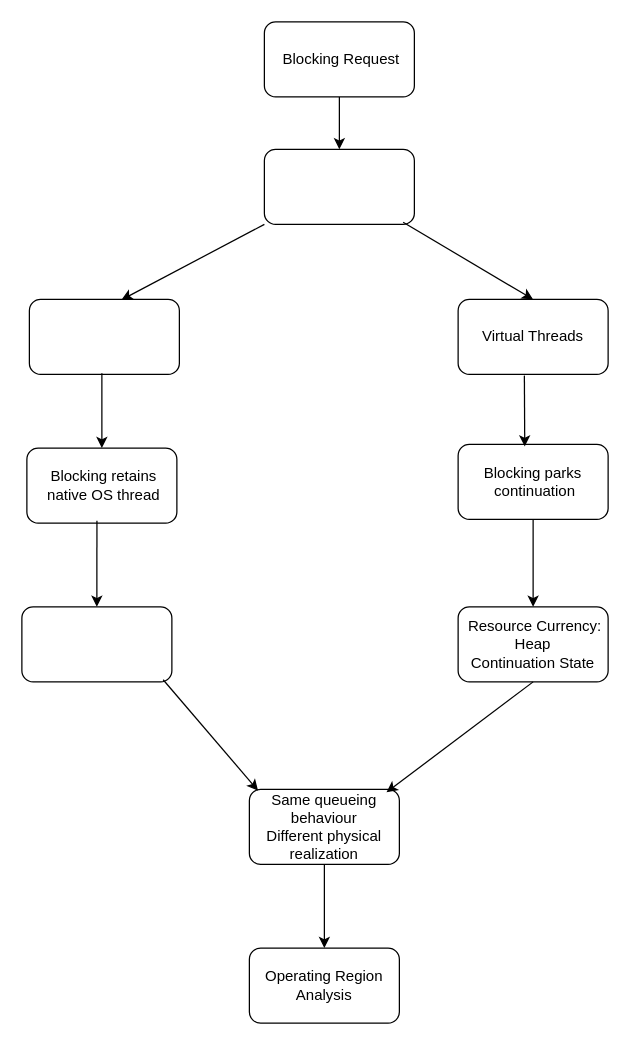
Image size: 630x1045. Some labels were removed from this diagram. Each missing label, with the box of its shape:
Platform Threads: (28, 298, 179, 374)
Resource Currency: Native Thread Occupancy: (21, 606, 172, 682)
Waiting Inventory E[N] (Little's Law invariant): (263, 148, 414, 224)
